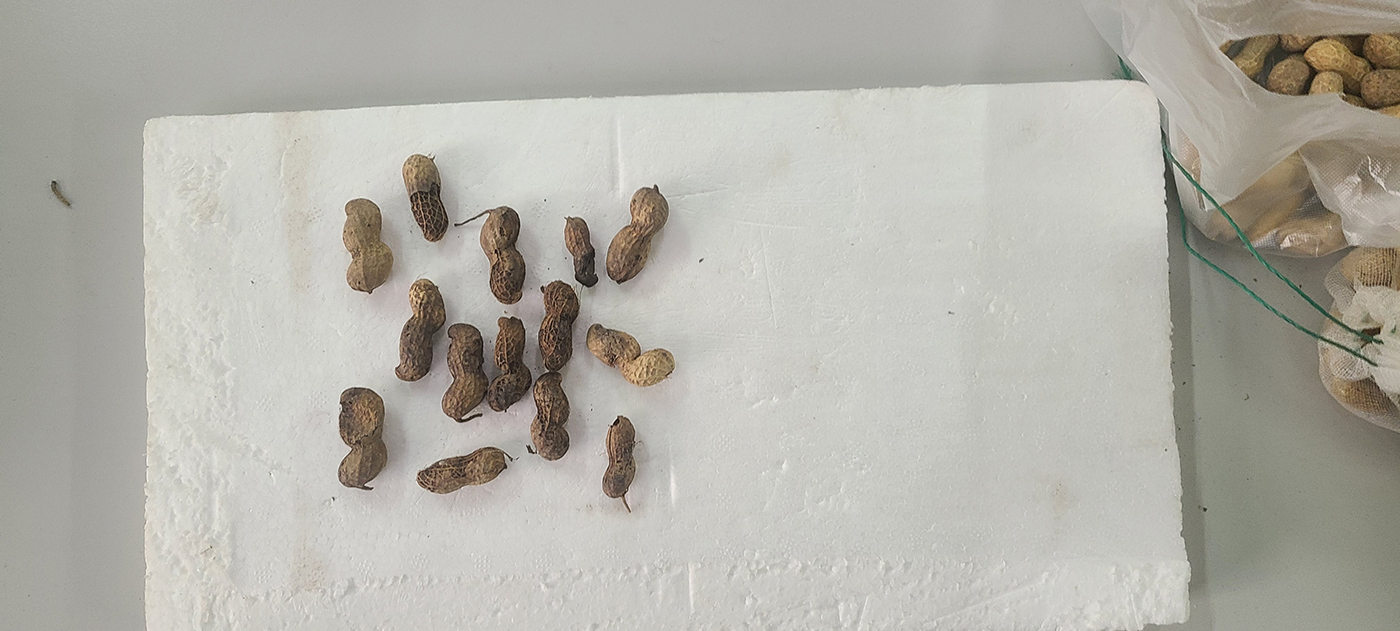l: (606, 186, 669, 283), (585, 324, 677, 386), (396, 279, 446, 382), (337, 386, 387, 488), (342, 197, 394, 293), (441, 323, 488, 419), (480, 205, 525, 305), (414, 445, 506, 493), (401, 154, 450, 243), (487, 316, 532, 411), (535, 280, 579, 371), (531, 371, 571, 461), (602, 414, 636, 498), (563, 215, 600, 289)
